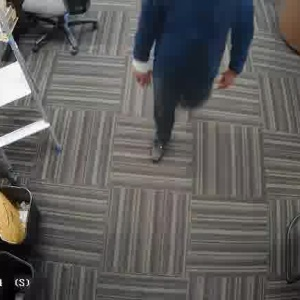person: (142, 0, 258, 159)
